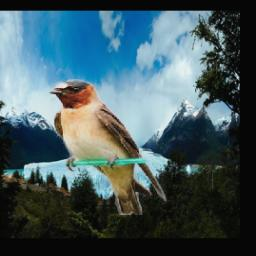Swallow: (49, 80, 166, 216)
